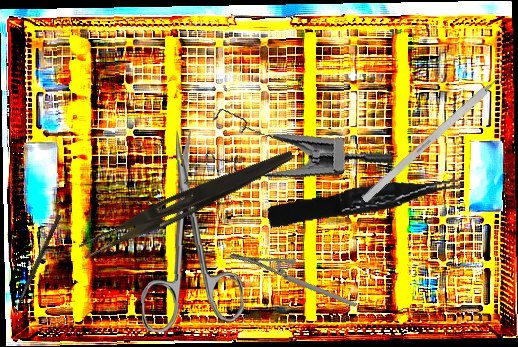Dressing Forceps: (77, 138, 297, 268)
Hook Surgical: (360, 61, 518, 204), (10, 213, 62, 320)
Iris Scissors: (135, 129, 245, 333)
Needle Holder: (228, 220, 358, 341)
Speculum: (195, 74, 394, 204)
Tissue Forceps: (265, 174, 465, 228)
